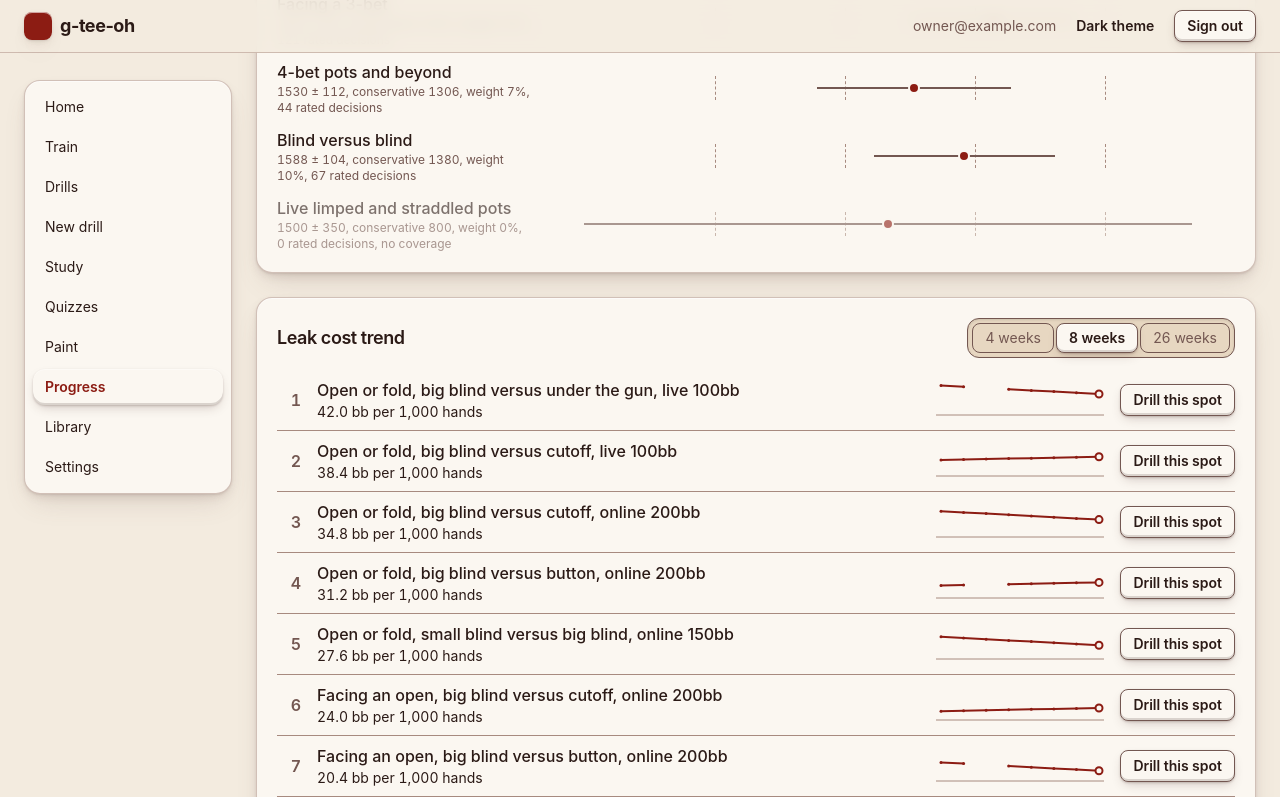
Scenario: R4.12 /progress › R4.12 a failed drill lookup shows the problem's title inline
This screenshot has width=1280, height=797.
(page scrolled)
Click the button named "Drill this spot: Open or fold, big blind versus under the gun, live 100bb" at [1178, 400], box [1120,384,1235,416]
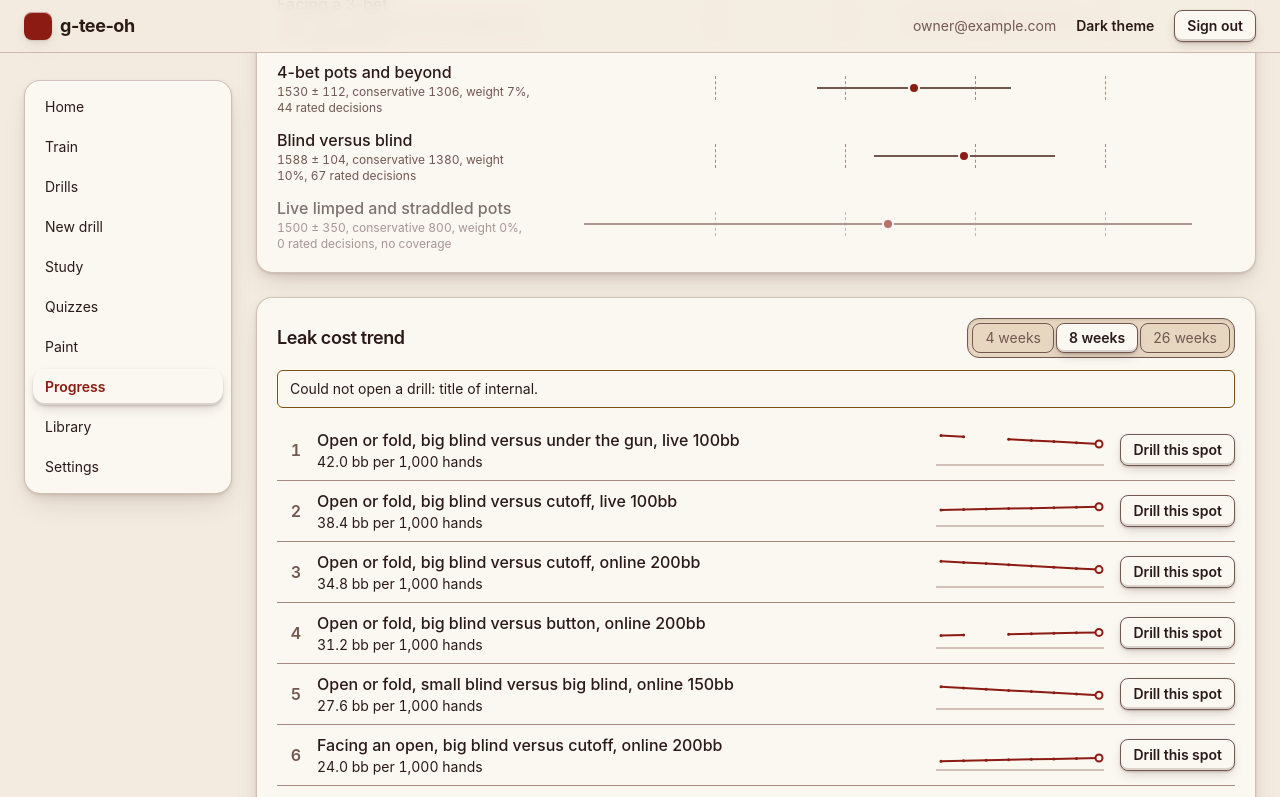
Check: the button named "Drill this spot: Open or fold, big blind versus under the gun, live 100bb" is enabled, box [1120,434,1235,466]
Check: the message reads "Could not open a drill: title of internal.", box [290,380,538,397]
